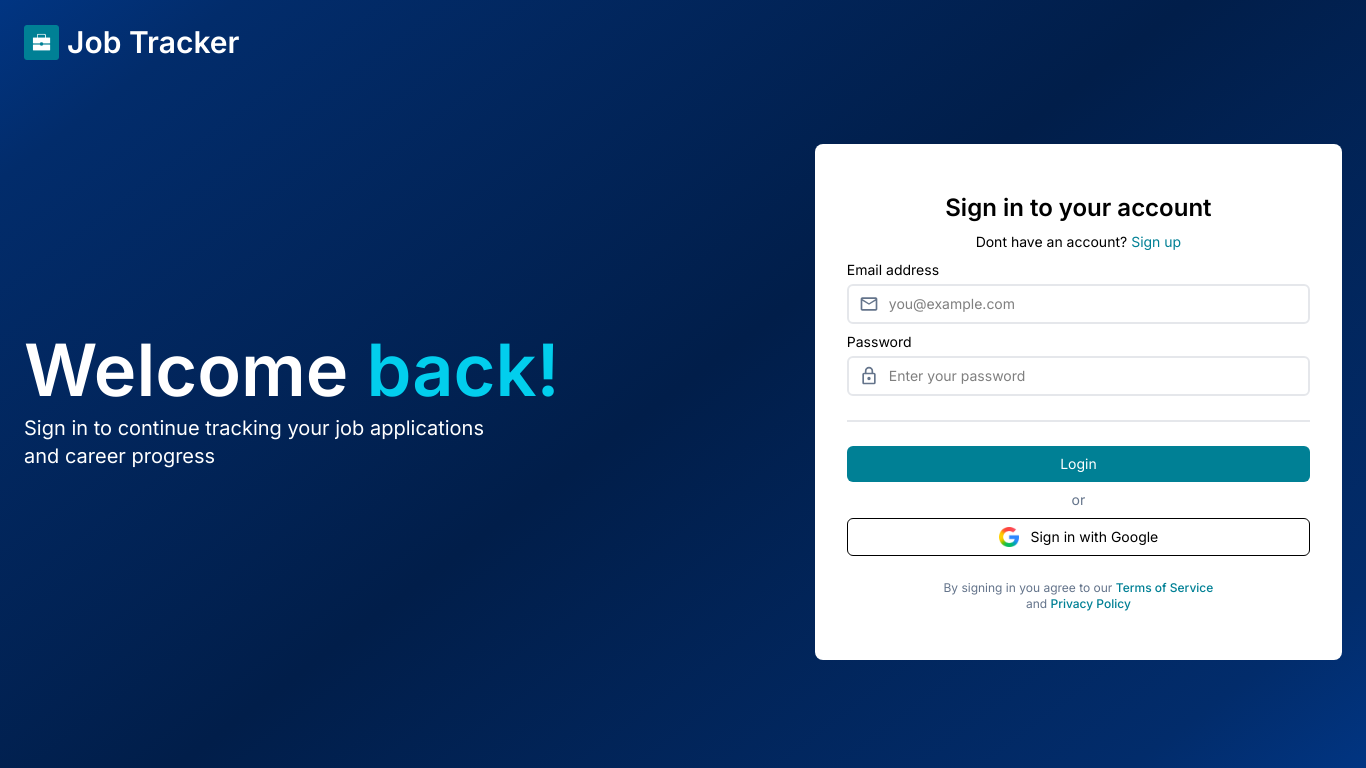
Test: login › link takes user to sign up page
The width and height of the screenshot is (1366, 768).
Click the link "Sign up": (1156, 242) [1131,233,1181,250]
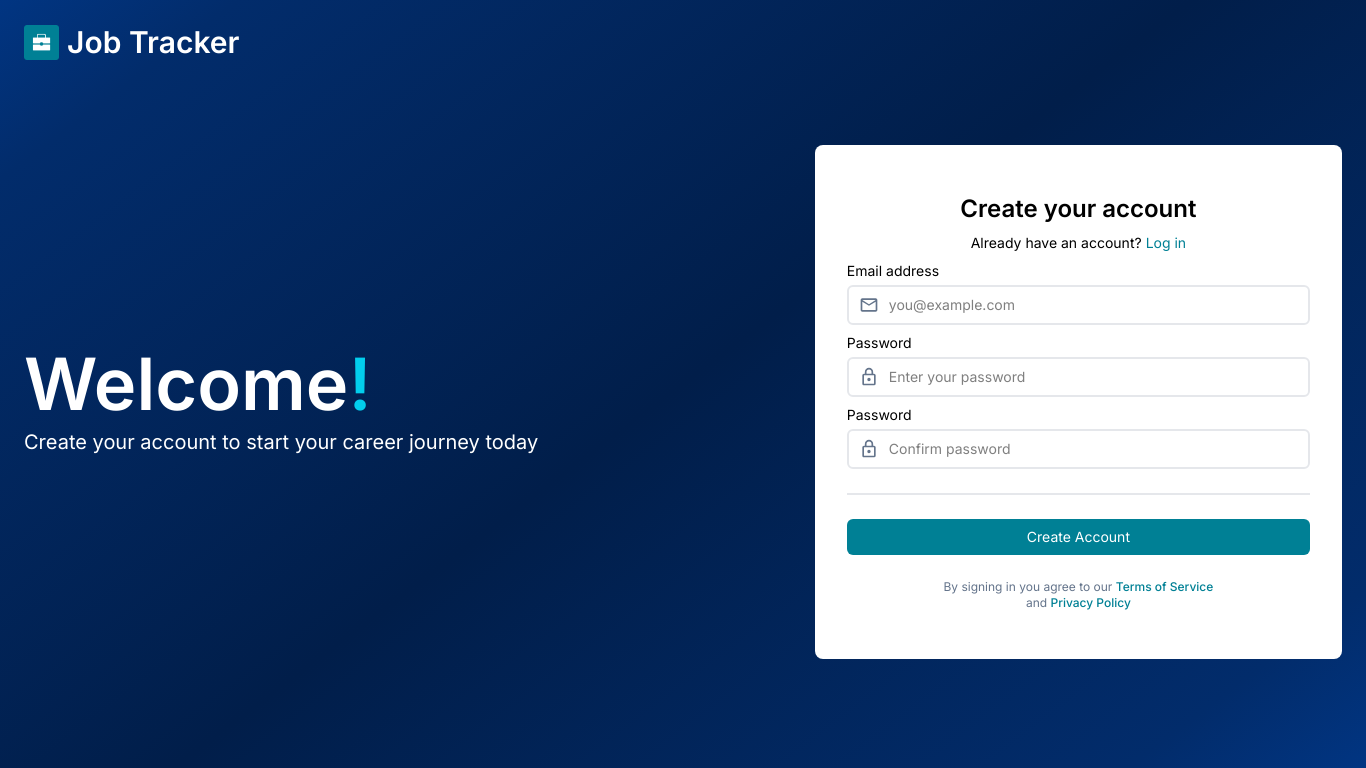
Expected: the heading "Create your account" is shown, [960,193,1196,225]
